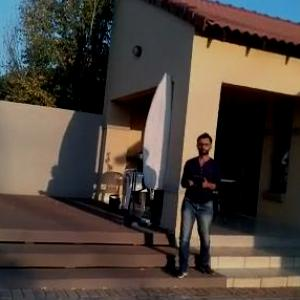follow: (171, 128, 222, 280)
